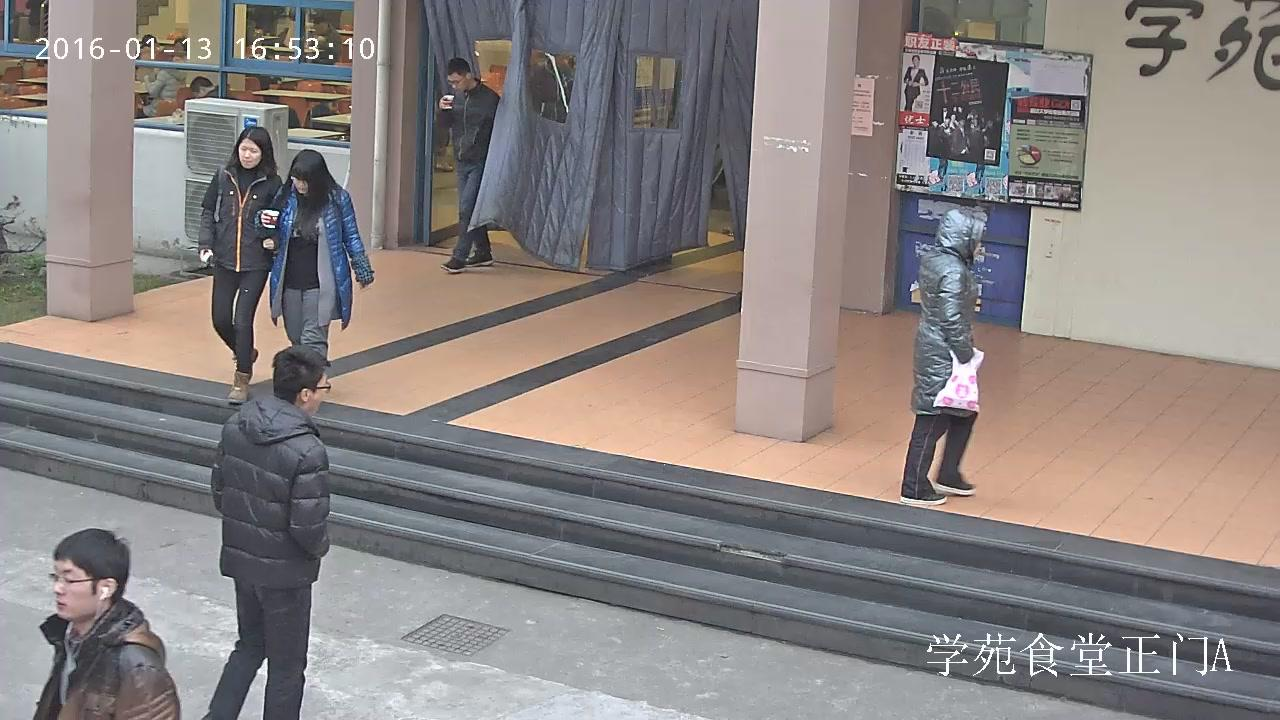person: (199, 345, 331, 720), (28, 528, 178, 719), (900, 205, 987, 506), (253, 149, 374, 359), (197, 126, 284, 404), (437, 56, 501, 274), (134, 69, 183, 119), (903, 54, 929, 113)
